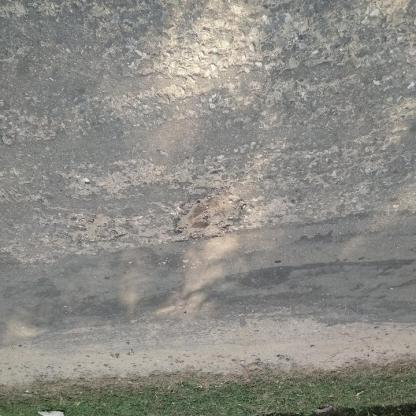pothole: (172, 194, 246, 246)
